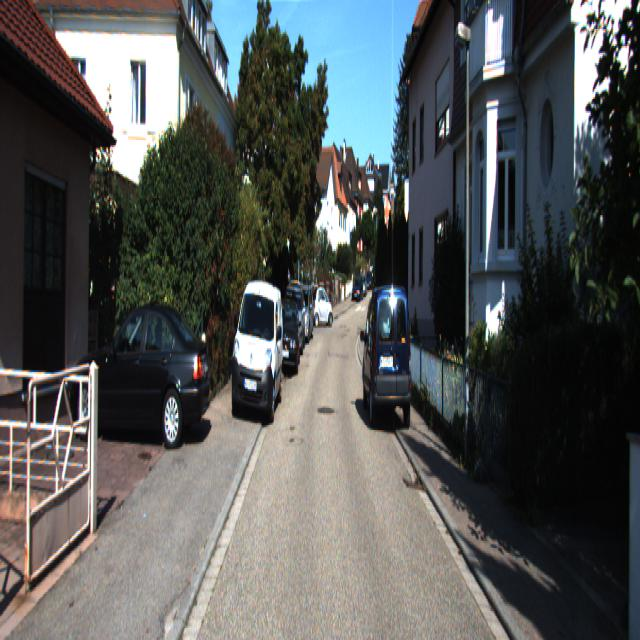Car: (70, 296, 214, 450), (230, 272, 285, 424), (361, 287, 414, 437), (273, 300, 302, 378), (281, 282, 306, 358), (289, 285, 315, 345), (311, 286, 334, 328)
